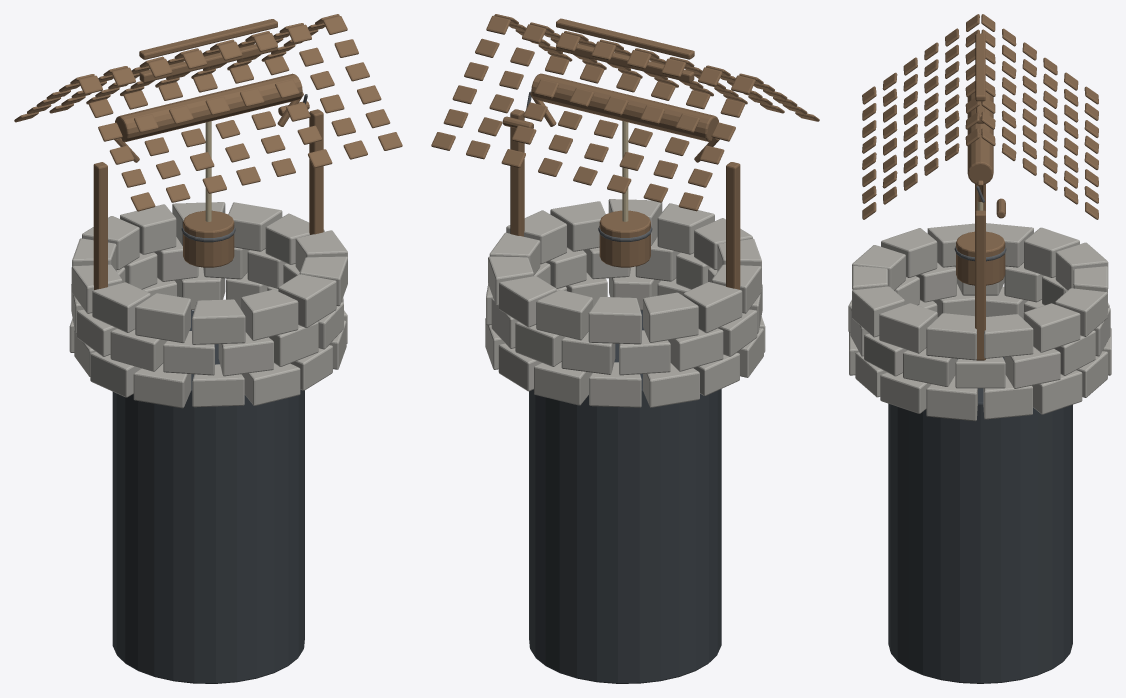
Rendered from well.glb.
3 views of the same model, side by side, from view 1: azimuth 30°, elevation 25°; view 2: azimuth 150°, elevation 25°; view 3: azimuth 270°, elevation 25° (orthographic). The views are drawn at different scales.
Parts seen in each view (by area): view 1: well; view 2: well; view 3: well.
Part boxes in pixels (x1,y1,x2,y2): well: (14, 14, 402, 683); well: (431, 14, 819, 683); well: (848, 14, 1111, 683).
Size of the model in its own units: 2.28 by 4.96 by 2.03.
